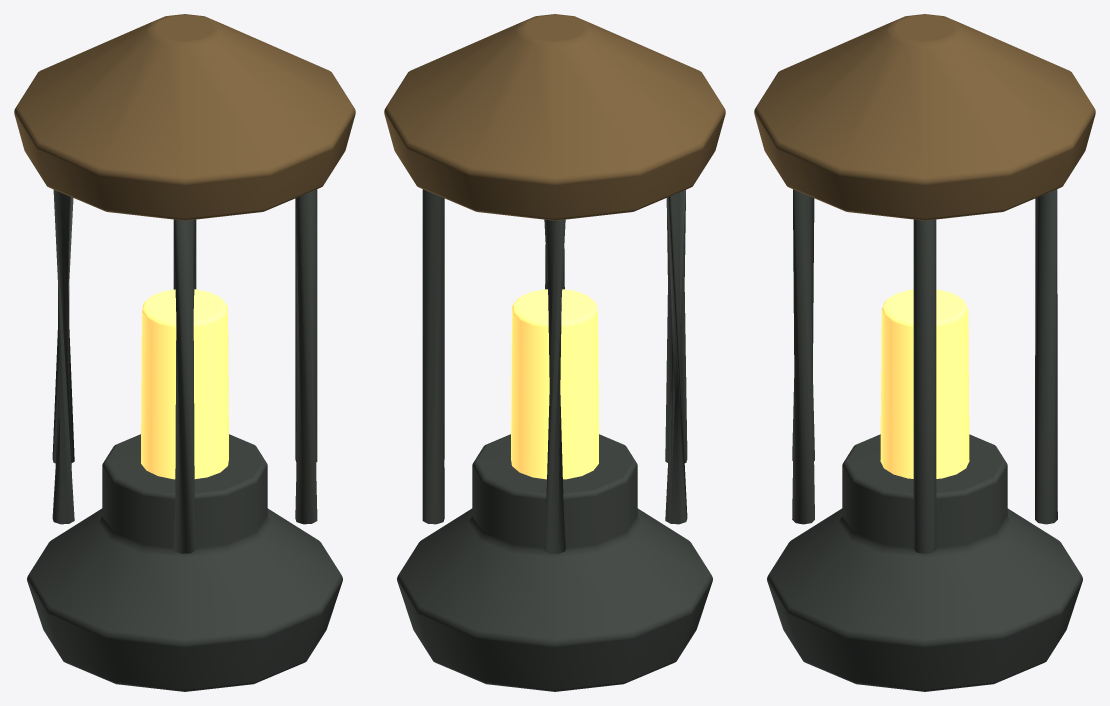
The model's file is C07_lantern.gltf.
3 renders of one model, left to right at view 1: azimuth 30°, elevation 25°; view 2: azimuth 150°, elevation 25°; view 3: azimuth 270°, elevation 25°, orthographic.
Parts seen in each view (by area): view 1: Lantern foot, Lantern lid, Candle, Lantern cage.001, Lantern cage.002, Lantern cage.003, Lantern cage.004, Lantern cage; view 2: Lantern foot, Lantern lid, Candle, Lantern cage.005, Lantern cage.004, Lantern cage.003, Lantern cage.002; view 3: Lantern foot, Lantern lid, Candle, Lantern cage, Lantern cage.005, Lantern cage.001.
Part boxes in pixels (bbox=[...]): Lantern foot: bbox=[27, 434, 342, 691]; Lantern lid: bbox=[14, 14, 355, 220]; Candle: bbox=[141, 289, 228, 479]; Lantern cage.001: bbox=[295, 189, 317, 524]; Lantern cage.002: bbox=[174, 219, 195, 553]; Lantern cage.003: bbox=[52, 190, 74, 524]; Lantern cage.004: bbox=[52, 286, 74, 463]; Lantern cage: bbox=[295, 189, 317, 461]; Lantern foot: bbox=[397, 434, 712, 691]; Lantern lid: bbox=[384, 14, 725, 220]; Candle: bbox=[511, 289, 598, 479]; Lantern cage.005: bbox=[422, 189, 444, 524]; Lantern cage.004: bbox=[544, 219, 565, 553]; Lantern cage.003: bbox=[665, 190, 687, 524]; Lantern cage.002: bbox=[665, 195, 687, 462]; Lantern foot: bbox=[767, 434, 1082, 691]; Lantern lid: bbox=[754, 14, 1095, 220]; Candle: bbox=[880, 289, 969, 478]; Lantern cage: bbox=[913, 219, 936, 553]; Lantern cage.005: bbox=[1035, 189, 1057, 524]; Lantern cage.001: bbox=[792, 189, 814, 524].
Bounding box in the file's own units: 0.5362 × 1.05 × 0.5362.
